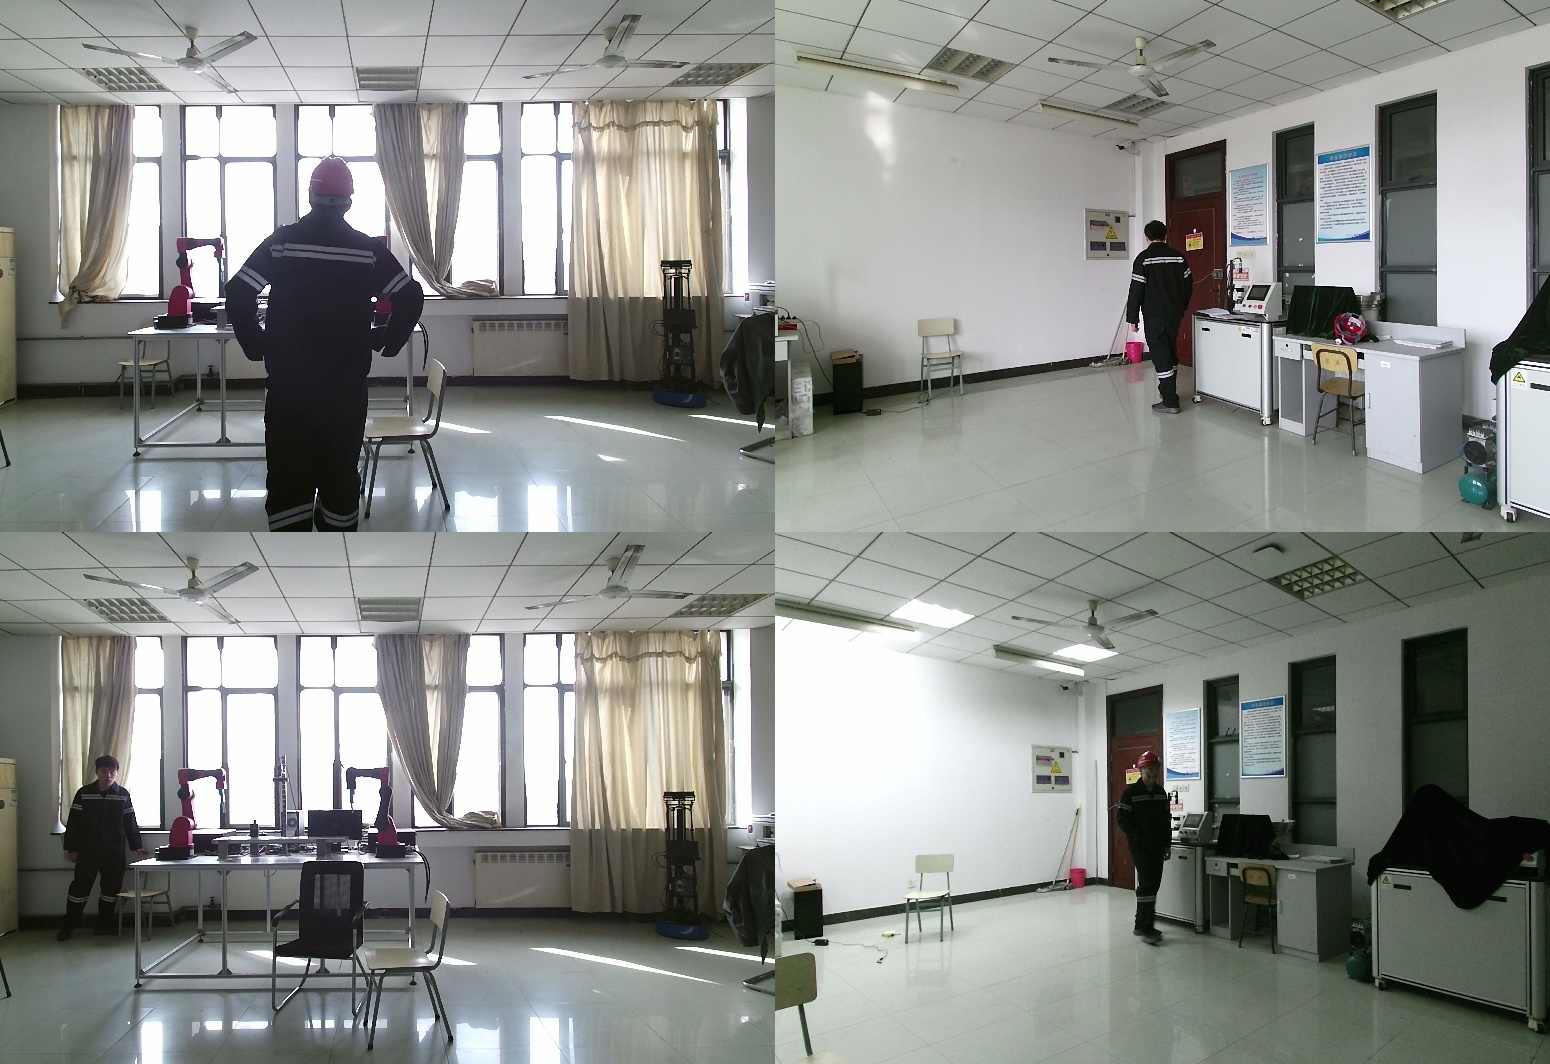person: (225, 157, 441, 532), (59, 756, 146, 941), (1126, 220, 1205, 420), (1111, 752, 1173, 951)
